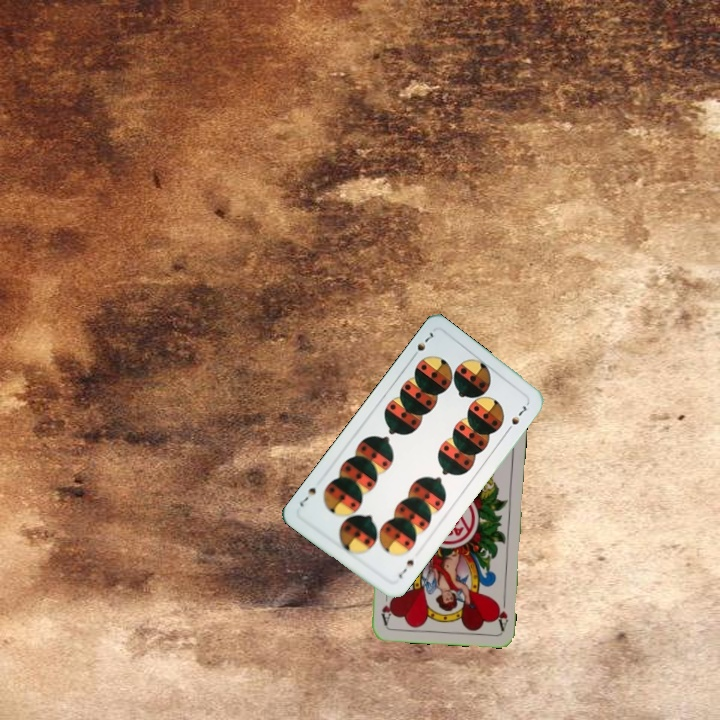HA: (492, 591, 511, 632)
S7: (407, 328, 436, 362), (394, 555, 417, 581)
